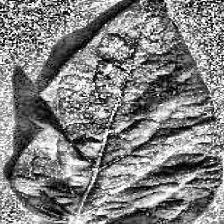spider mites: (9, 0, 223, 224)
